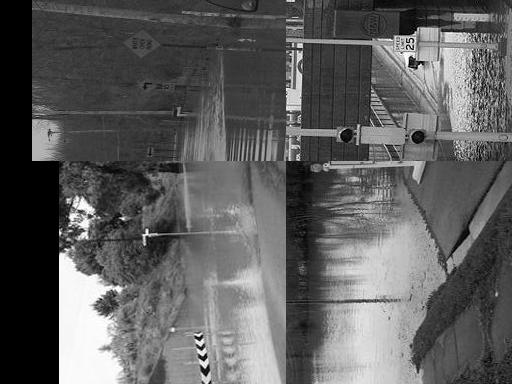road_waterlogging: (300, 161, 375, 384), (224, 3, 286, 161), (193, 251, 262, 384), (382, 220, 424, 384), (177, 161, 247, 231), (167, 79, 210, 161)
